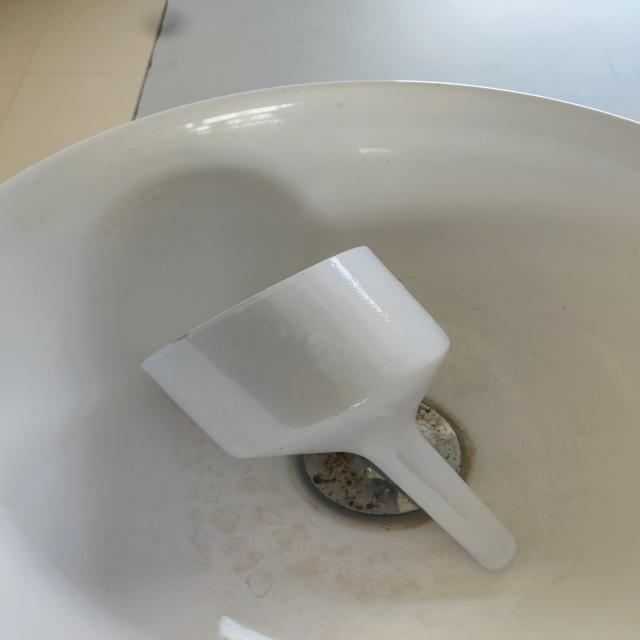Buchner_Funnel: (92, 231, 562, 588)
